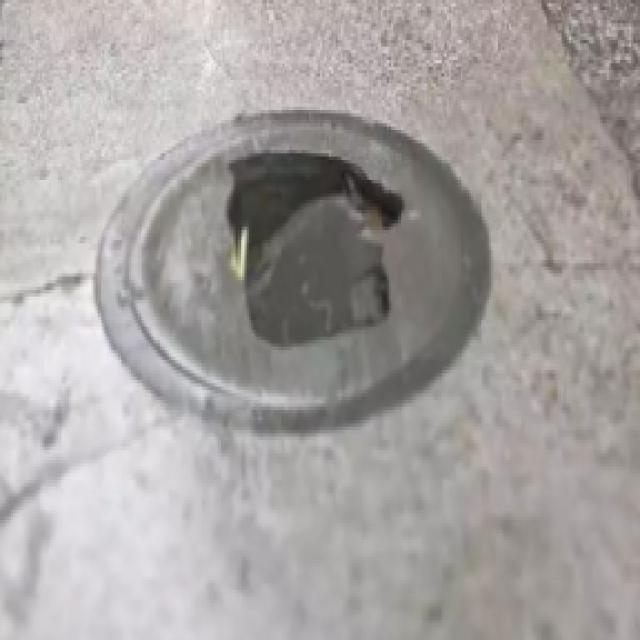manhole: (98, 110, 489, 432)
